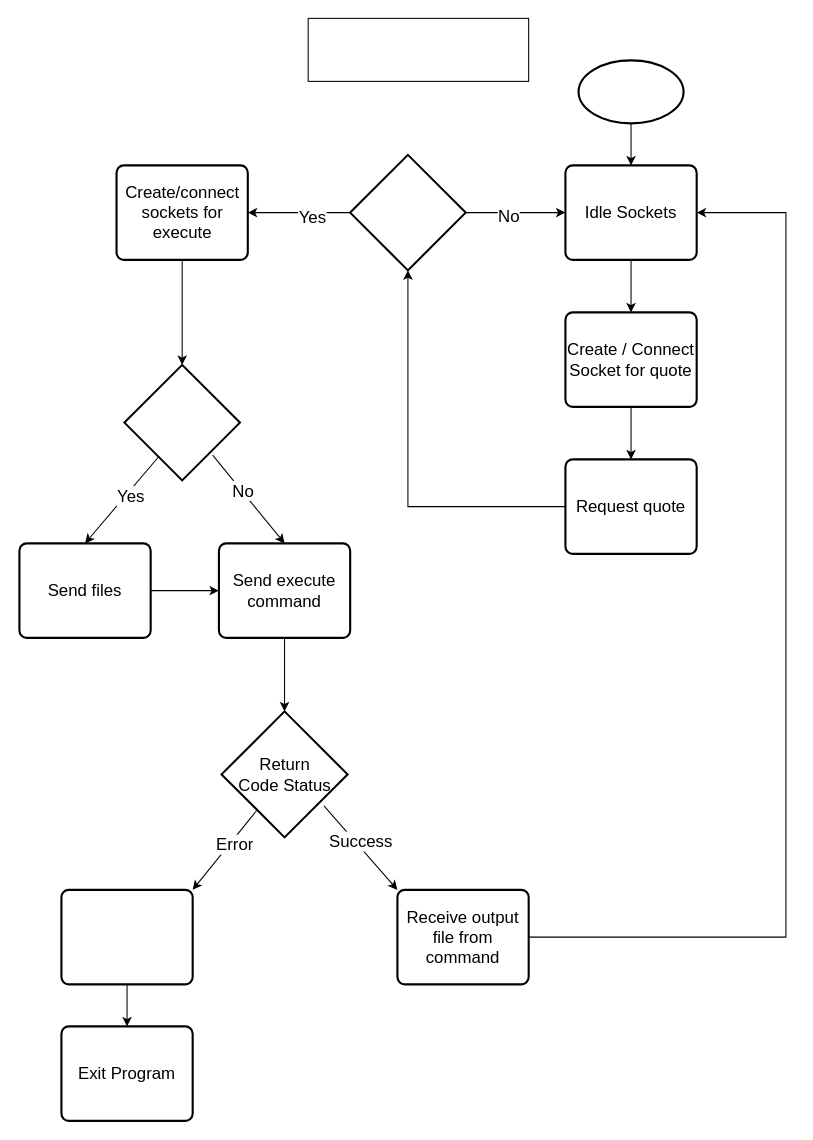
The diagram is 813 pixels wide and 1140 high, and some of its shapes have lost their labels. Here are the shapes that lost their labels. From the top down, the centre of each, then its label:
the point at 418,49: Client - High level flow of a single connection
the point at 630,91: Start
the point at 407,212: Is lowest cost?
the point at 181,422: Requires files?
the point at 126,936: Output error message
